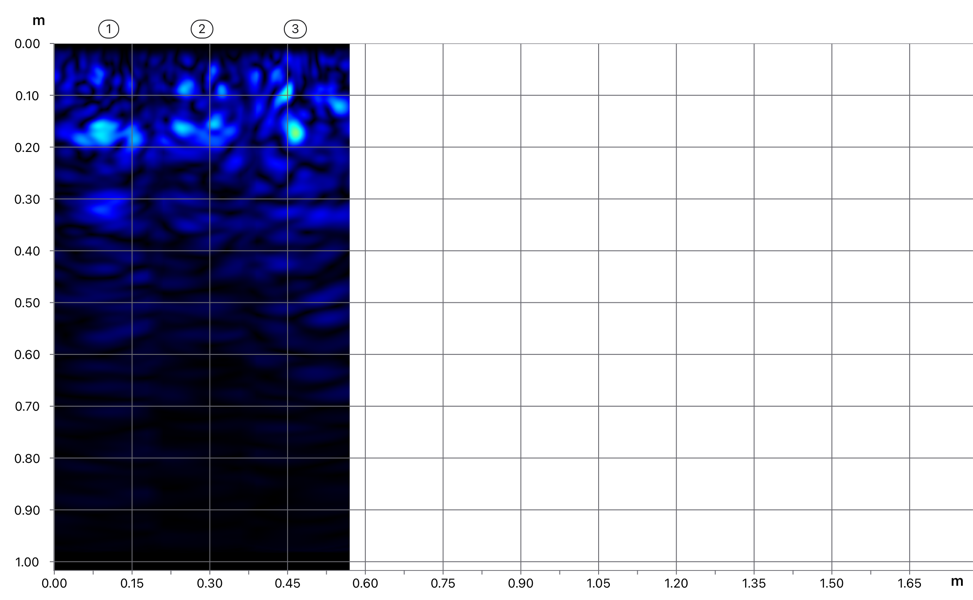crop: (0, 0, 351, 328)
